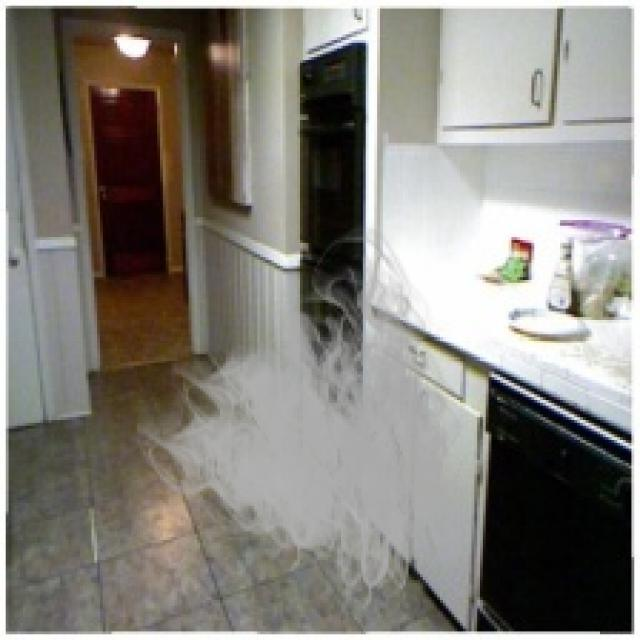smoke: (137, 220, 486, 626)
